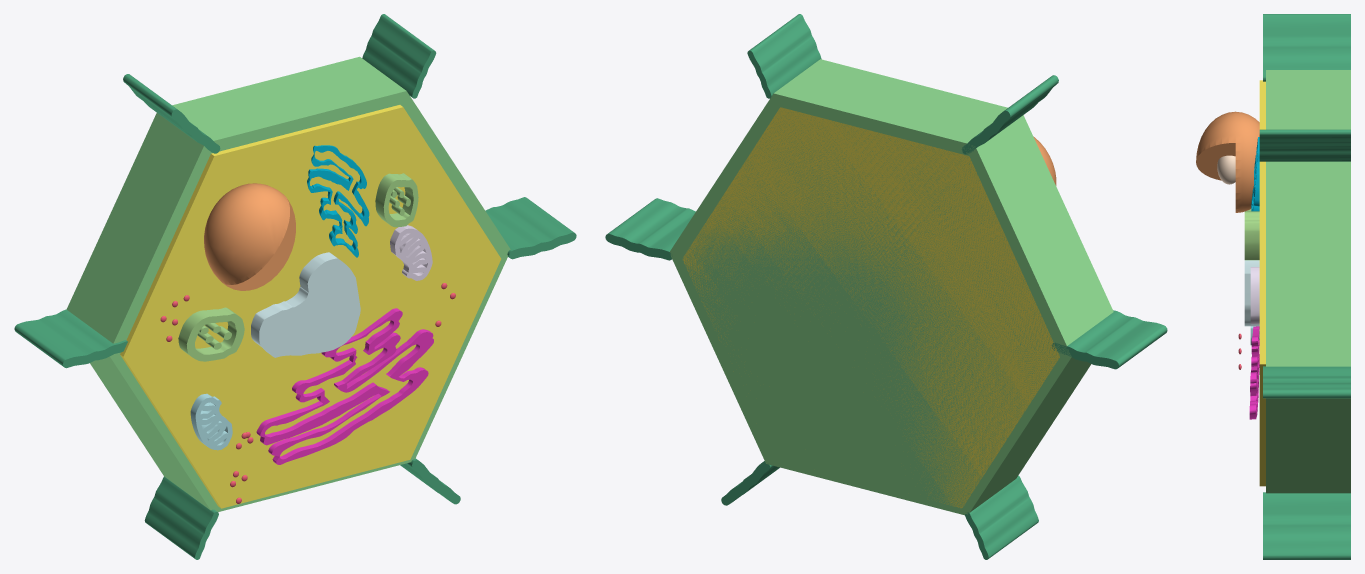
Rendered from Tế bào thực vật.glb.
3 views of the same model, side by side, from view 1: azimuth 30°, elevation 25°; view 2: azimuth 150°, elevation 25°; view 3: azimuth 270°, elevation 25° (orthographic). The views are drawn at different scales.
Visible parts, largest first — view 1: Object_7, Object_9, Object_11, Object_4, Object_5, Object_2, Object_13, Object_8, Object_10, Object_3; view 2: Object_9, Object_7, Object_11; view 3: Object_9, Object_11, Object_5, Object_7, Object_4, Object_13, Object_3, Object_2, Object_6, Object_8.
Boxes of the visible parts, x1=… form: Object_7: x1=120, y1=105, x2=501, y2=508; Object_9: x1=66, y1=56, x2=510, y2=511; Object_11: x1=14, y1=14, x2=576, y2=559; Object_4: x1=256, y1=308, x2=433, y2=464; Object_5: x1=204, y1=183, x2=295, y2=290; Object_2: x1=251, y1=252, x2=360, y2=357; Object_13: x1=178, y1=173, x2=418, y2=361; Object_8: x1=307, y1=145, x2=369, y2=257; Object_10: x1=190, y1=393, x2=232, y2=450; Object_3: x1=390, y1=225, x2=432, y2=280; Object_9: x1=670, y1=59, x2=1113, y2=515; Object_7: x1=682, y1=107, x2=1059, y2=508; Object_11: x1=605, y1=14, x2=1167, y2=559; Object_9: x1=1266, y1=70, x2=1350, y2=493; Object_11: x1=1259, y1=14, x2=1350, y2=559; Object_5: x1=1196, y1=111, x2=1259, y2=212; Object_7: x1=1259, y1=80, x2=1265, y2=486; Object_4: x1=1249, y1=326, x2=1259, y2=419; Object_13: x1=1244, y1=209, x2=1259, y2=260; Object_3: x1=1250, y1=267, x2=1259, y2=324; Object_2: x1=1244, y1=260, x2=1259, y2=326; Object_6: x1=1217, y1=155, x2=1235, y2=184; Object_8: x1=1251, y1=137, x2=1259, y2=211.
Bounding box in the file's own units: 177 × 153 × 51.
